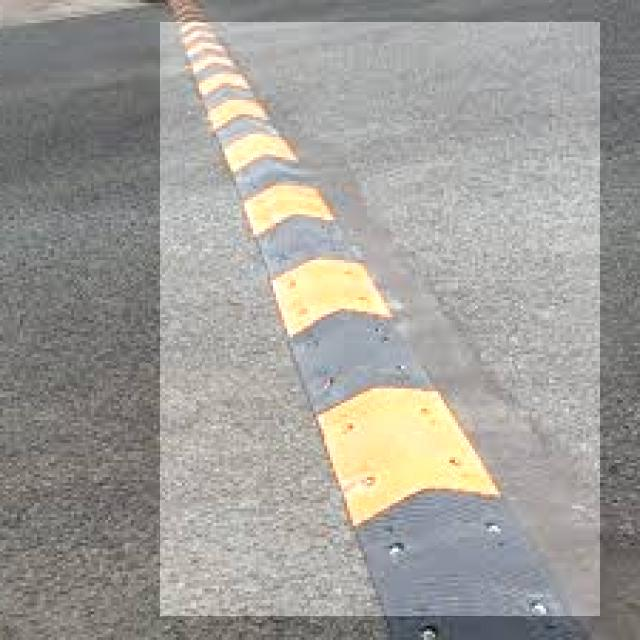bump: (160, 22, 600, 616)
